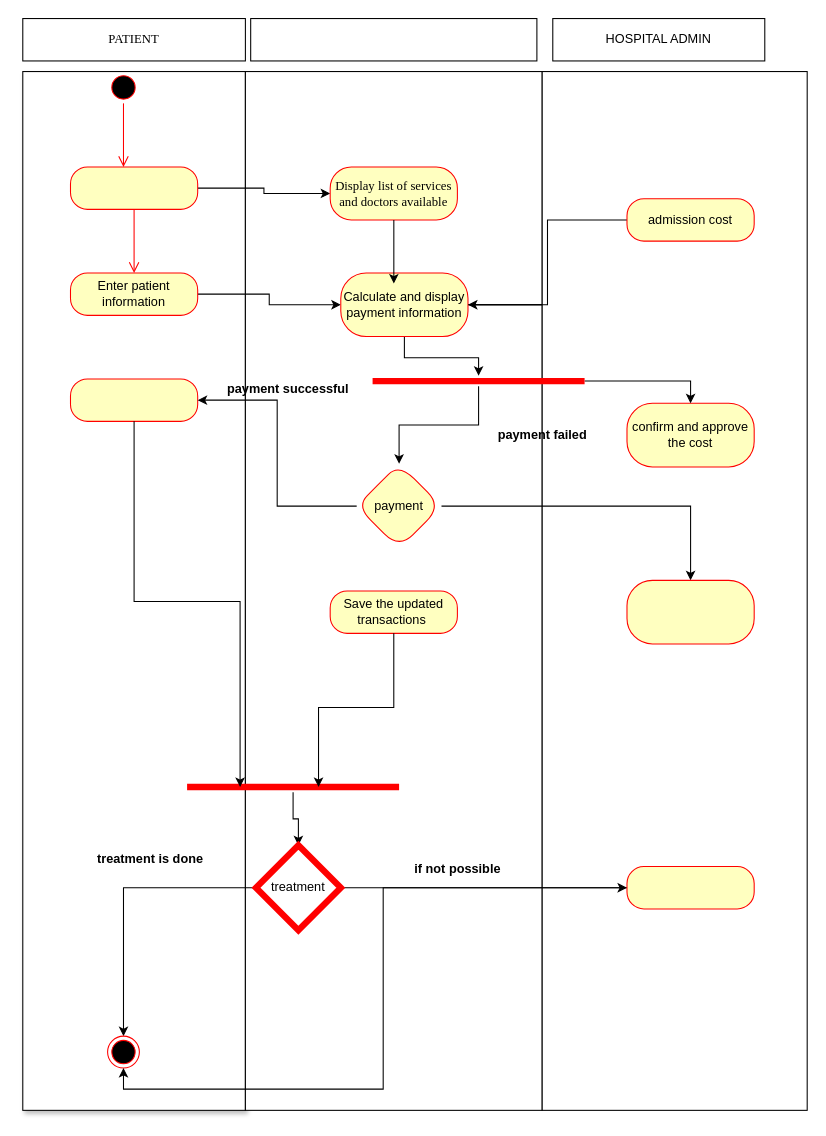
This 826x1136 diagram has some shape labels left out. Here are the shapes that lost their labels. From the top down, the centre of each, then its label:
(x=393, y=39): SYSTEM
(x=133, y=187): wait in line for a card.
(x=133, y=399): take token and wait for your turn
(x=690, y=611): Decline the treatment
(x=690, y=887): refund the patient
